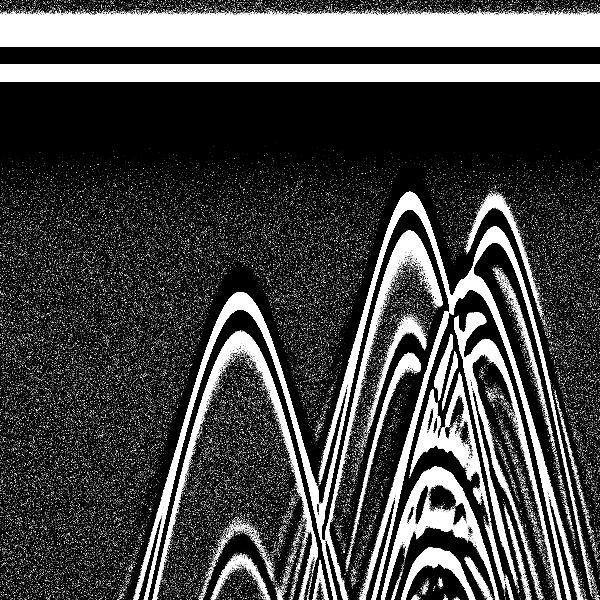pipe: (182, 5, 299, 382), (420, 4, 522, 356), (352, 3, 455, 304), (455, 5, 544, 292)
